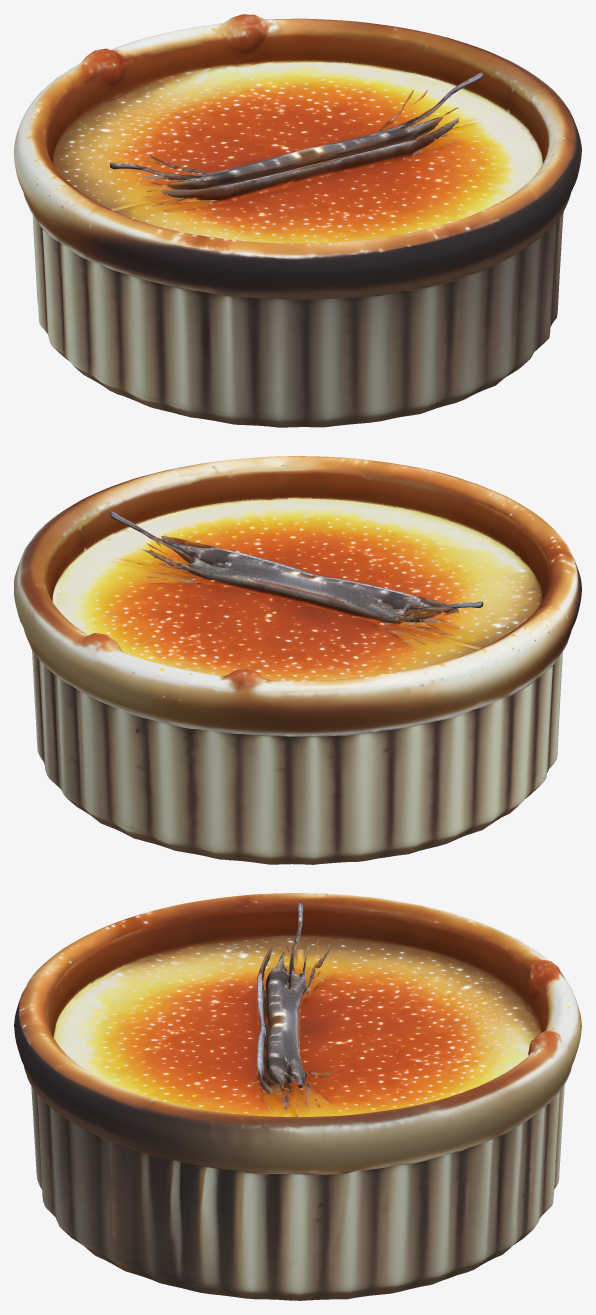
File: Crème.glb
3 views of the same model, one above another, from view 1: azimuth 30°, elevation 25°; view 2: azimuth 150°, elevation 25°; view 3: azimuth 270°, elevation 25° (orthographic).
Visible parts, largest first — view 1: model; view 2: model; view 3: model.
Part boxes in pixels (x1=…): model: x1=14, y1=14, x2=581, y2=427; model: x1=14, y1=456, x2=581, y2=864; model: x1=14, y1=893, x2=581, y2=1300.
Size of the model in its own units: 1.9 by 0.7746 by 1.9.
1 material, 1 textured.
